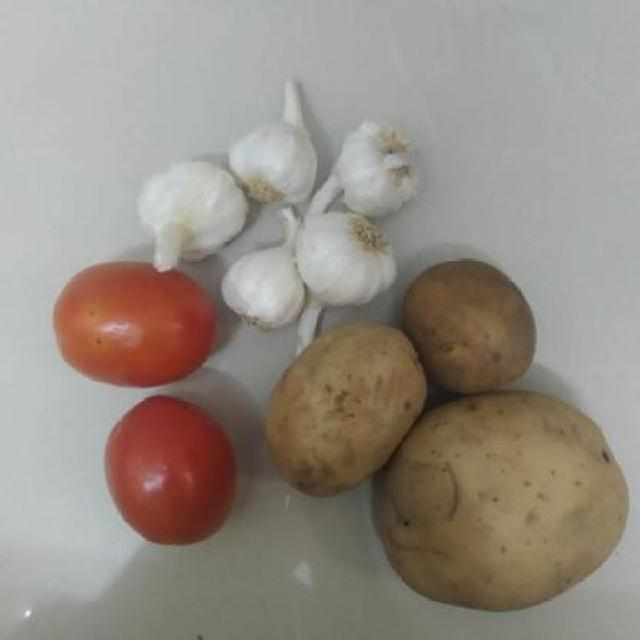Garlic: (132, 158, 245, 271), (296, 210, 398, 322), (323, 120, 423, 217), (217, 255, 311, 334), (232, 121, 323, 202)
Potato: (372, 389, 640, 611), (262, 322, 424, 502), (406, 258, 542, 388)
Tomato: (84, 390, 260, 556), (50, 266, 226, 389)
